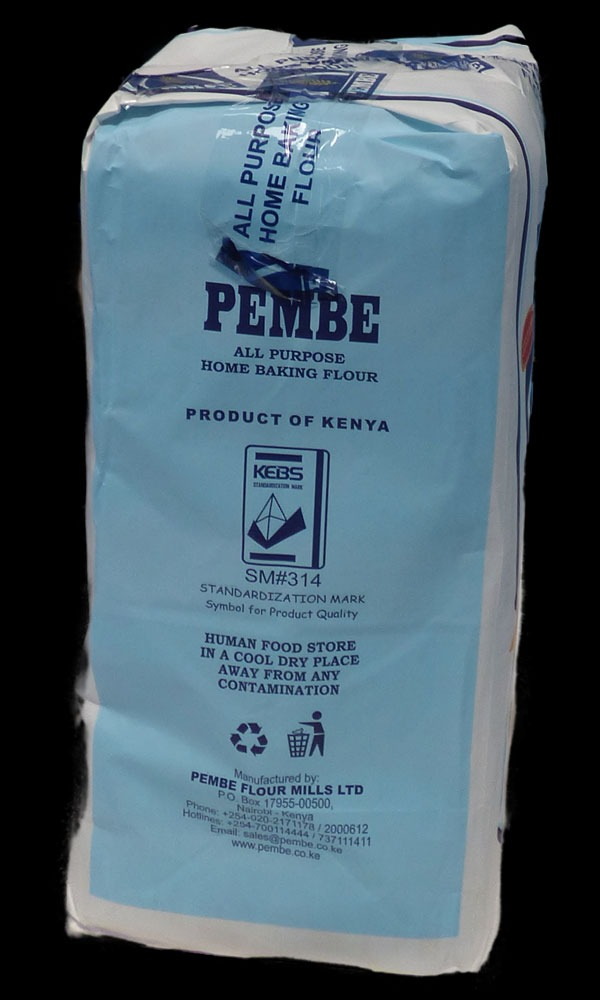wheat_flour_blue_label: (77, 29, 539, 966)
